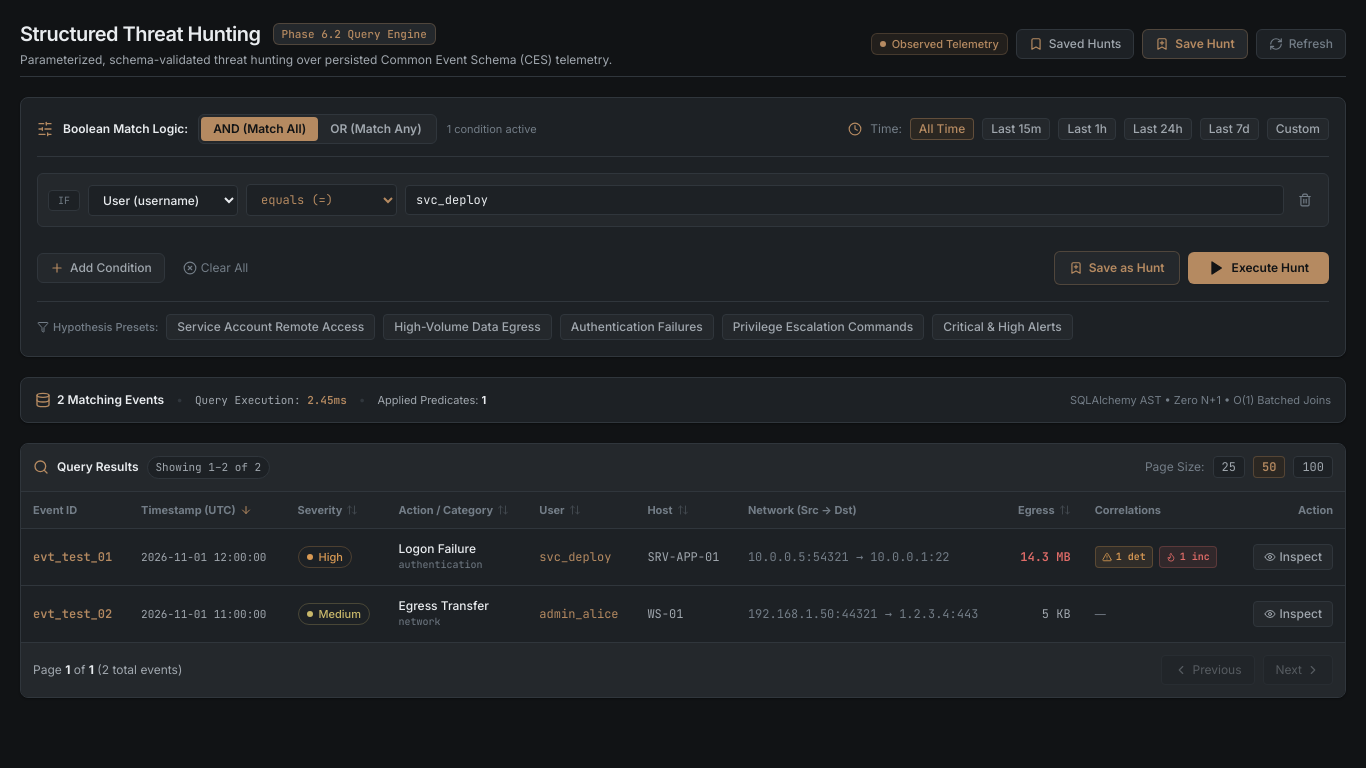
Test: ThreatHunting View Component › supports applying presets
The image size is (1366, 768).
Click the button "High-Volume Data Egress". click: x=468, y=327
box: 383,314 -> 552,340
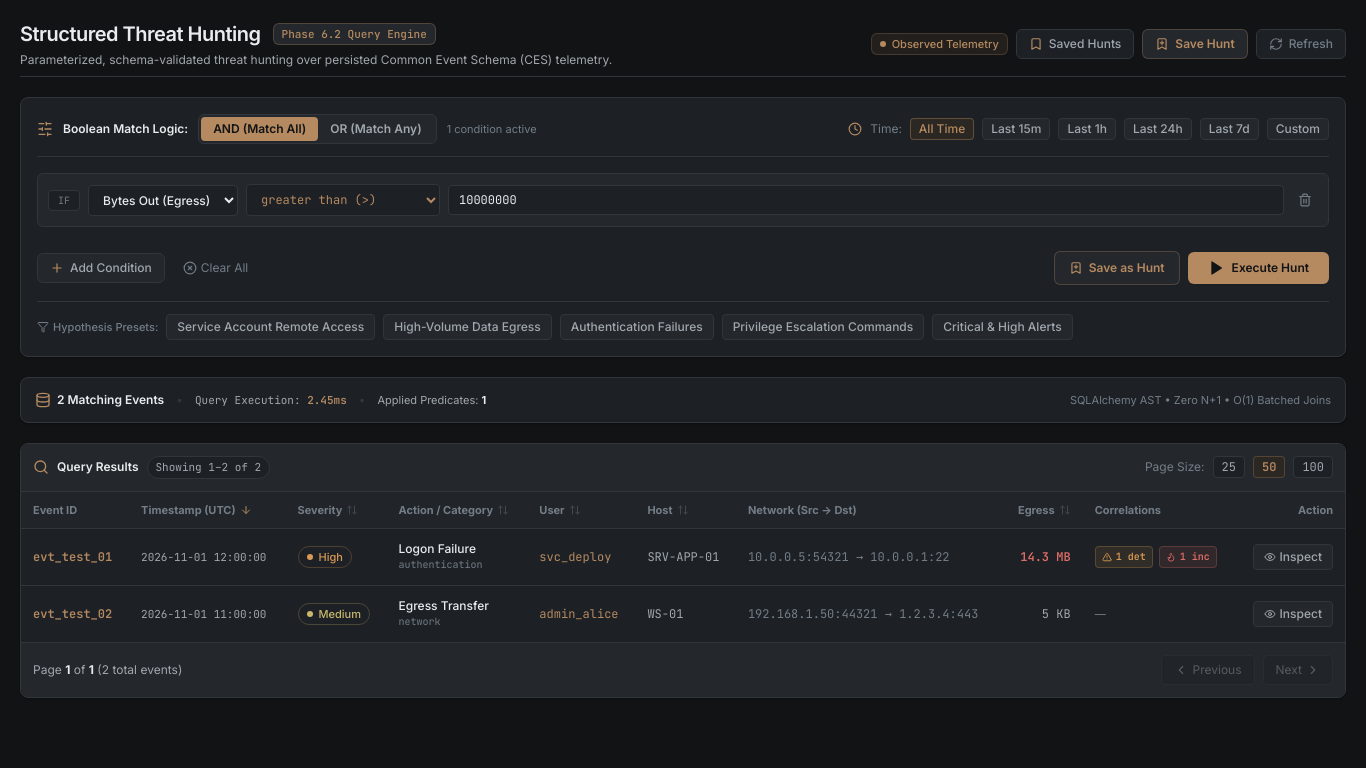
Result: the field with placeholder "e.g. 10000000 (bytes)" holds "10000000" at 448,185 -> 1284,215
